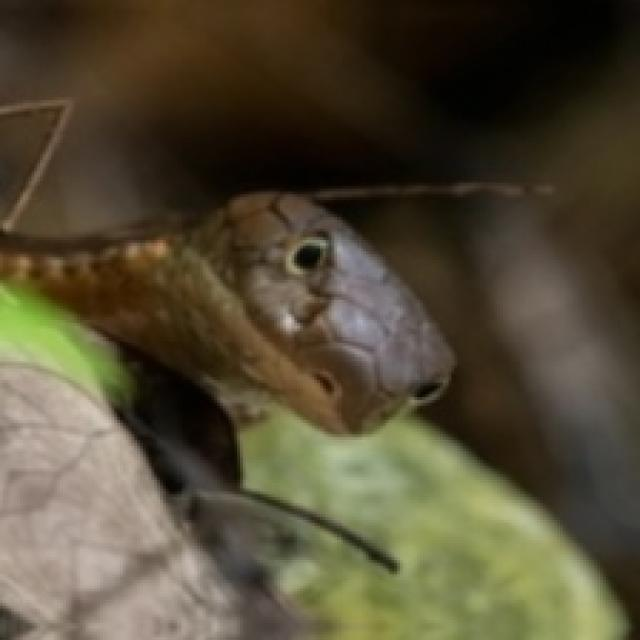king cobra: (0, 195, 455, 433)
